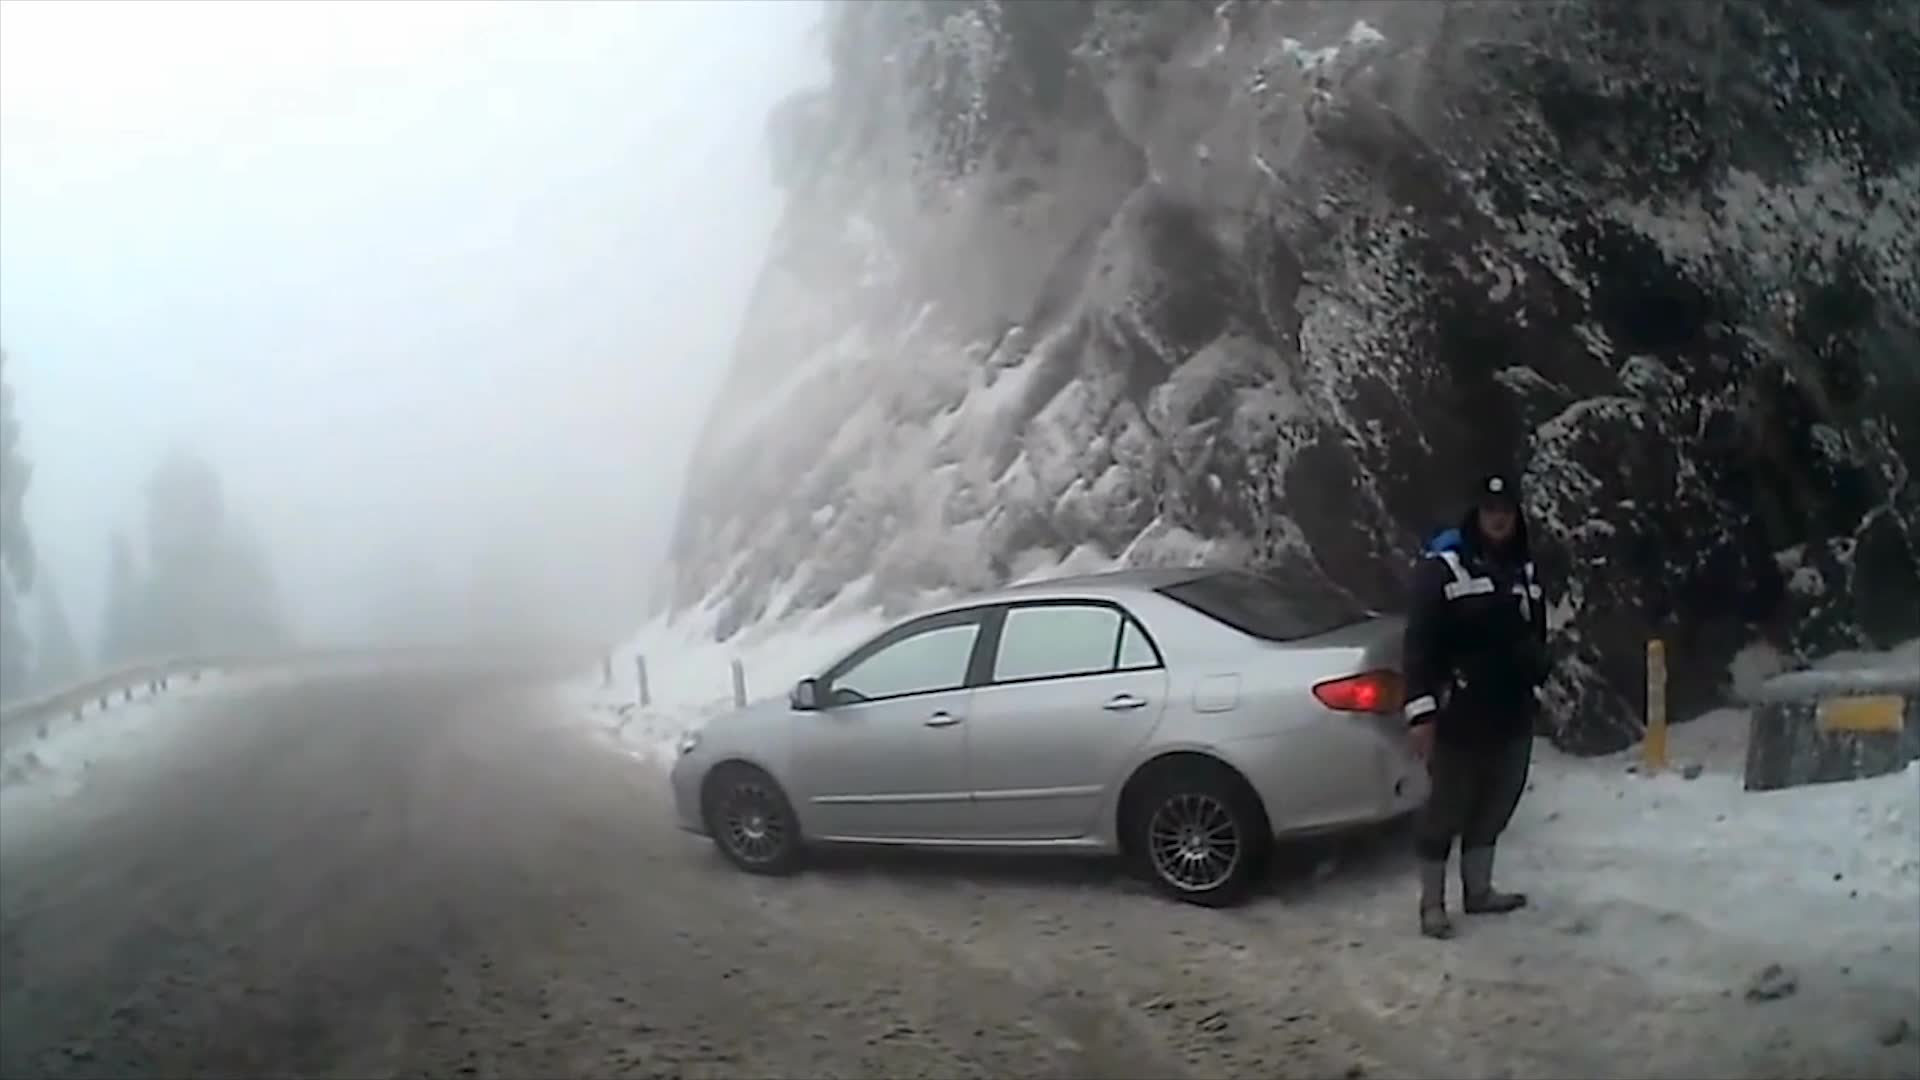pedestrian: (1397, 481, 1553, 949)
vehicle: (668, 571, 1502, 911)
